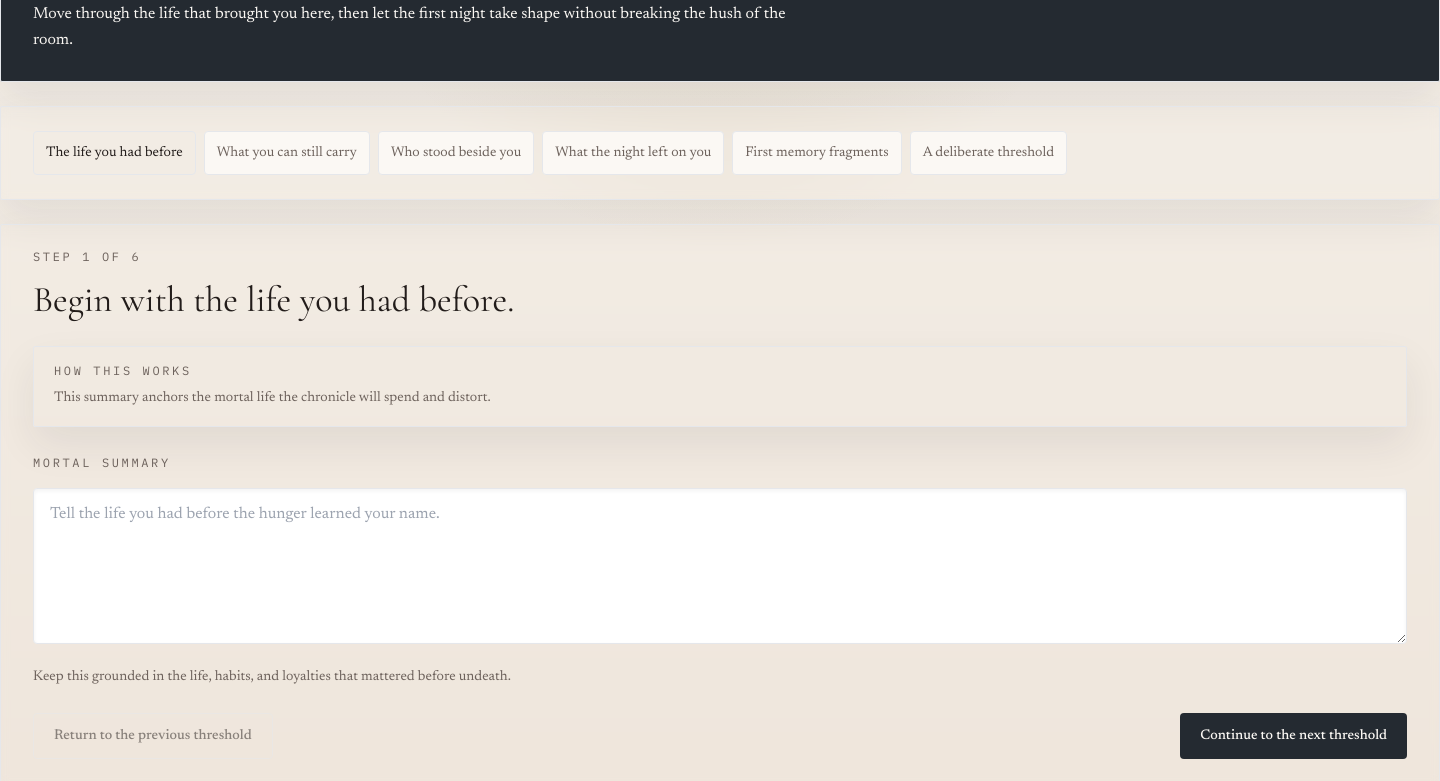
Test case: guided setup flow › keeps the player on the checkpoint when setup submission fails
This screenshot has width=1440, height=781.
(page scrolled)
Click the button "Continue to the next threshold". click: {"x": 1294, "y": 736}
box: [1180,713,1407,759]
(page scrolled)
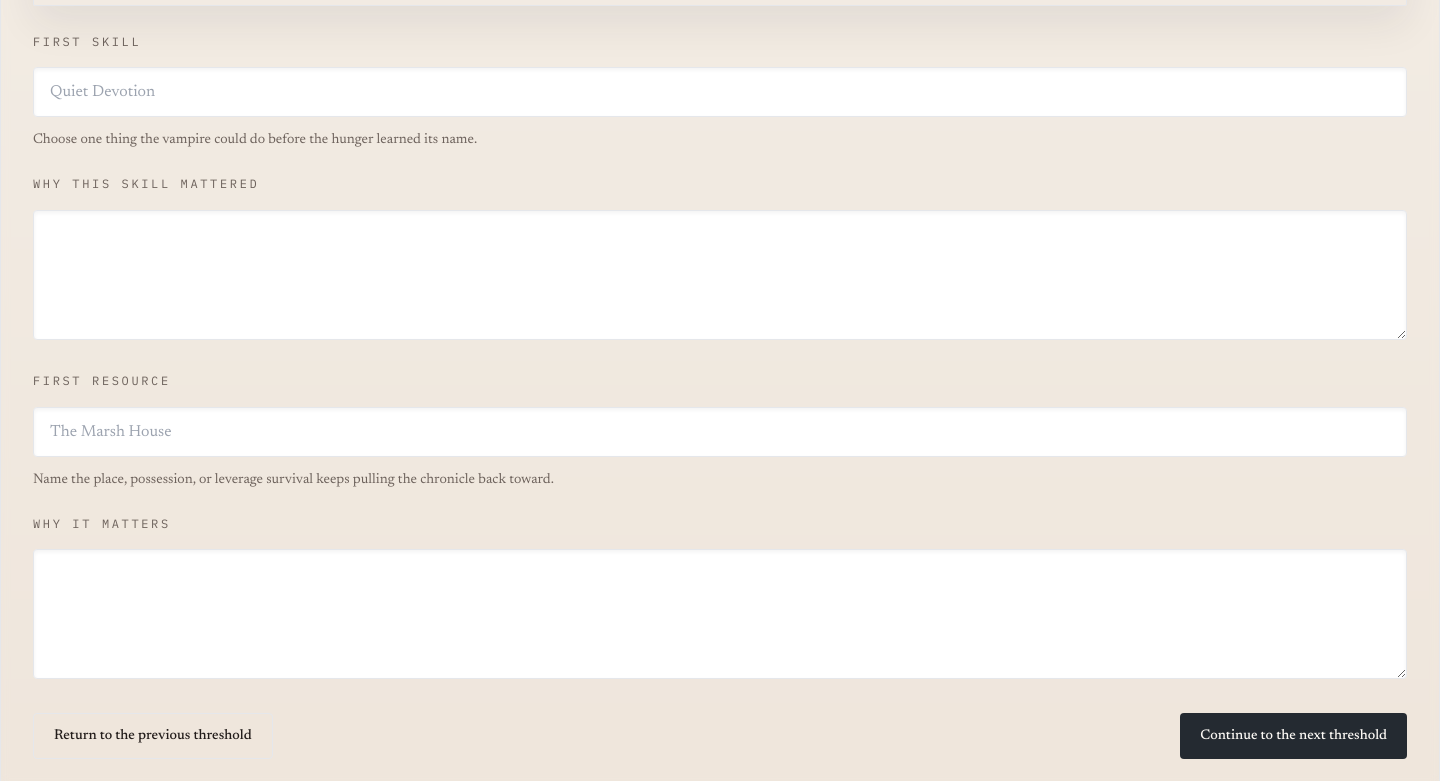
Click the button "Continue to the next threshold". click: {"x": 1294, "y": 736}
box: [1180,713,1407,759]
(page scrolled)
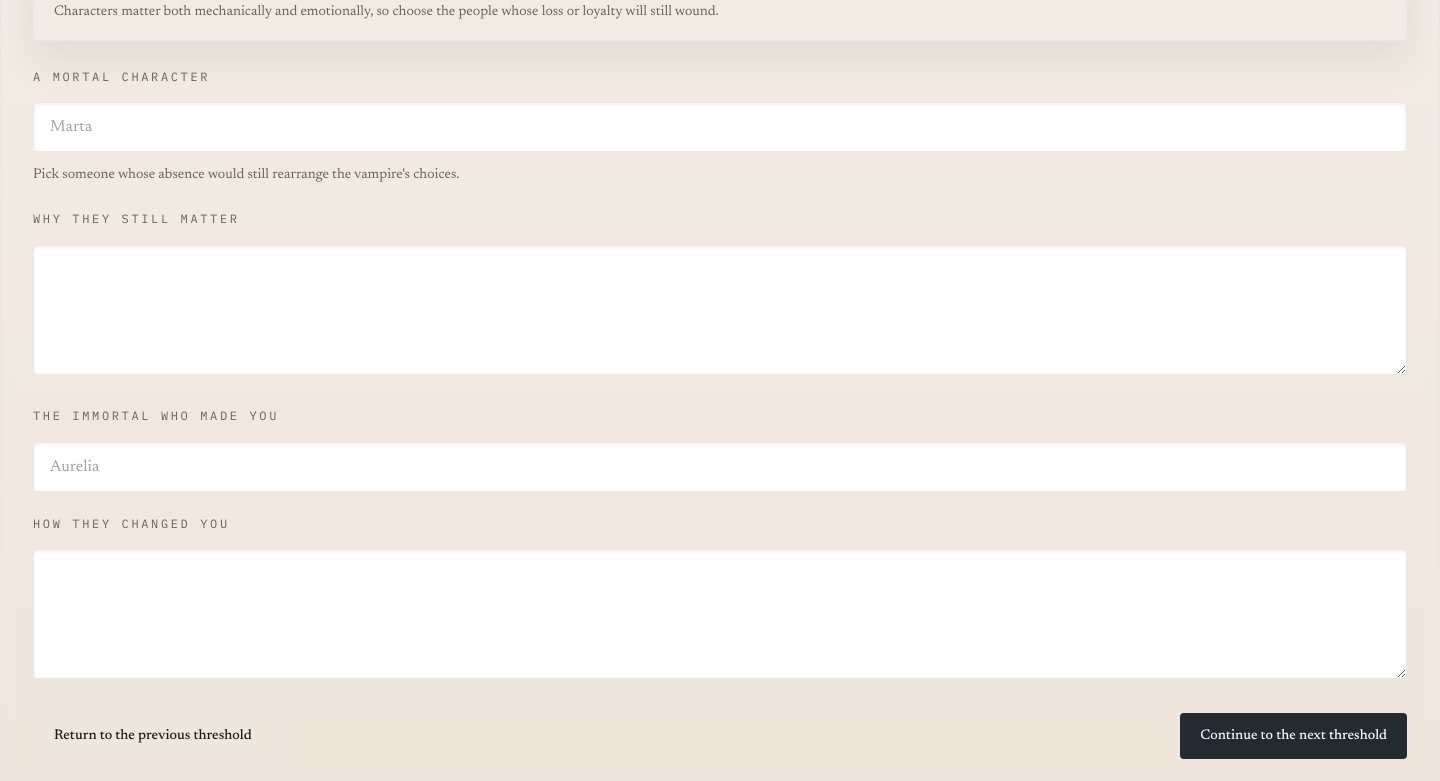
Click the button "Continue to the next threshold". click: {"x": 1294, "y": 736}
box: [1180,713,1407,759]
(page scrolled)
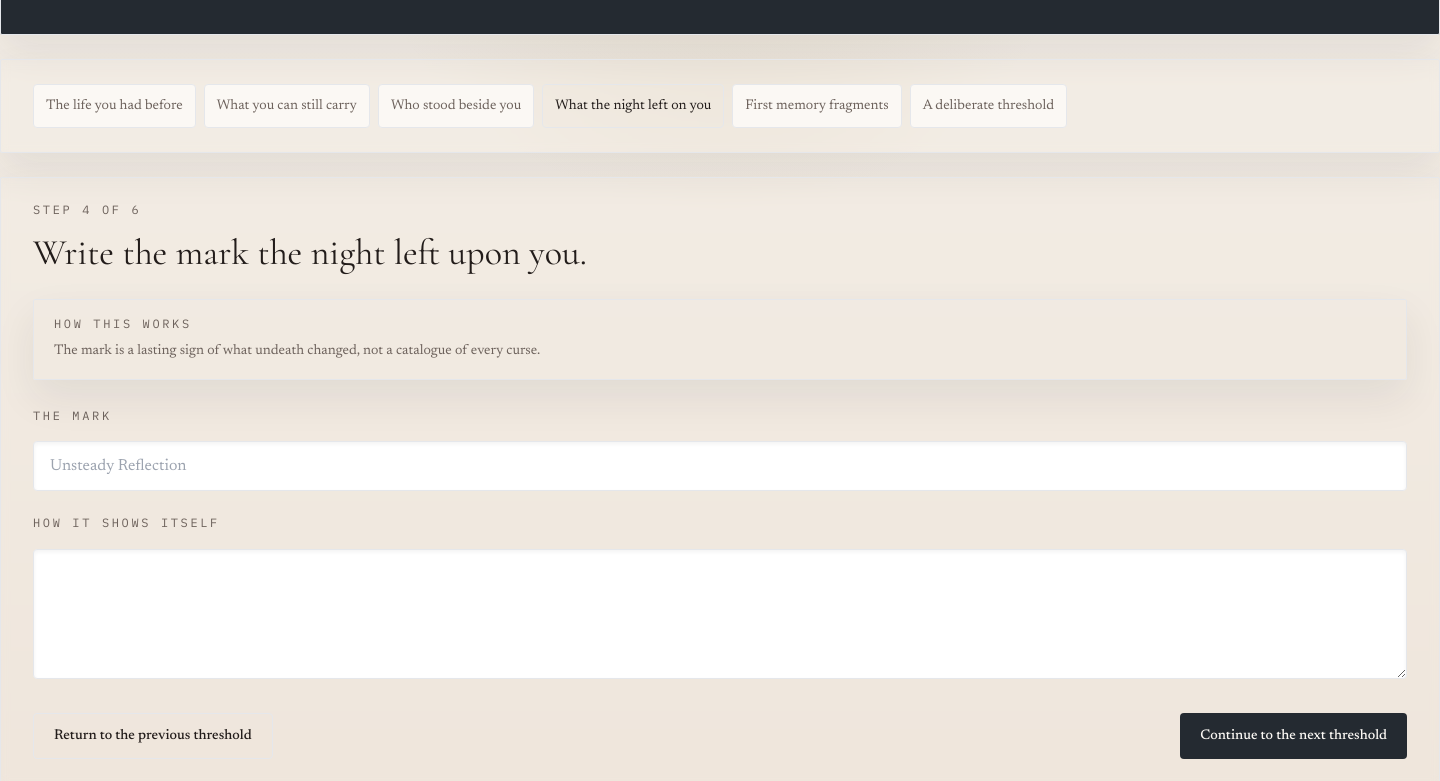
Click the button "Continue to the next threshold". click: {"x": 1294, "y": 736}
box: [1180,712,1407,758]
(page scrolled)
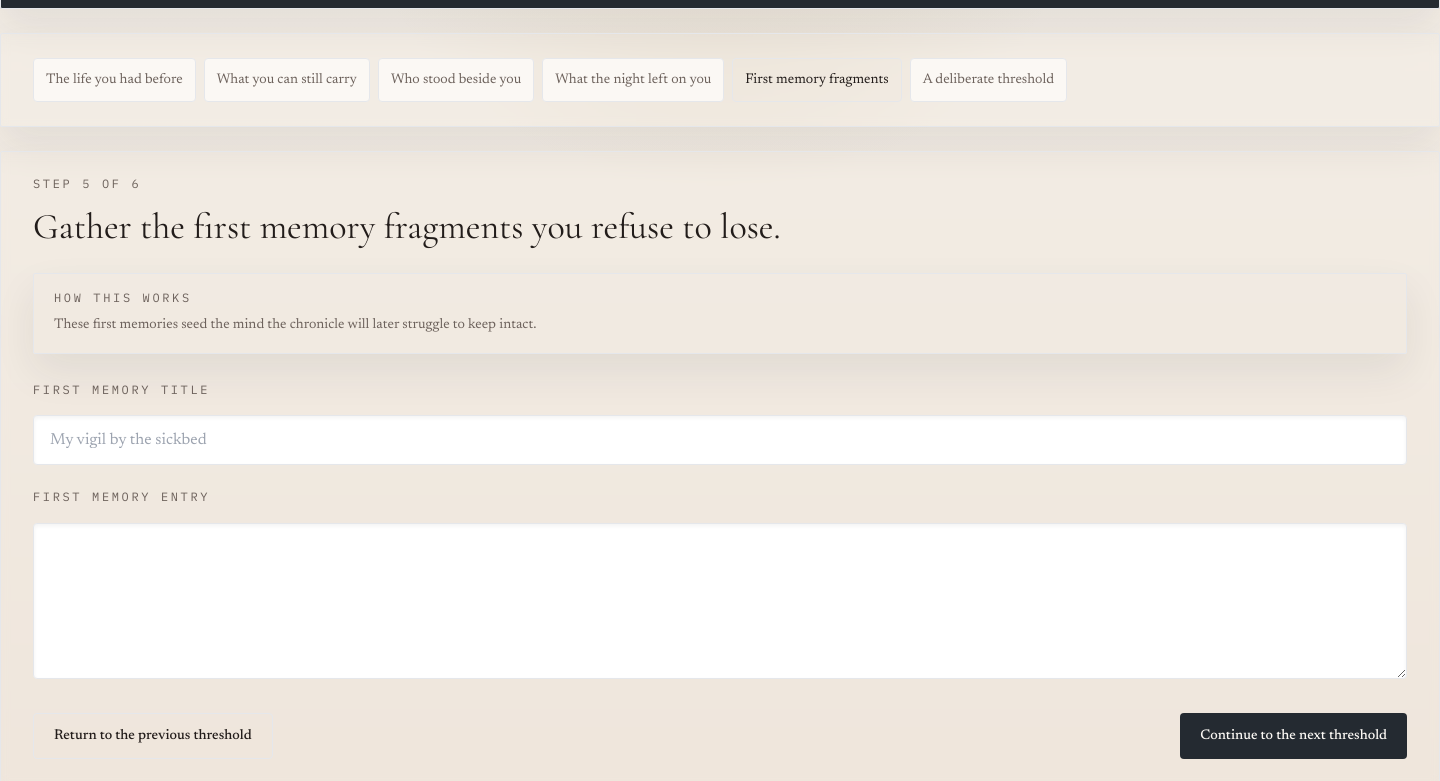
Click the button "Continue to the next threshold". click: {"x": 1294, "y": 736}
box: [1180,712,1407,758]
(page scrolled)
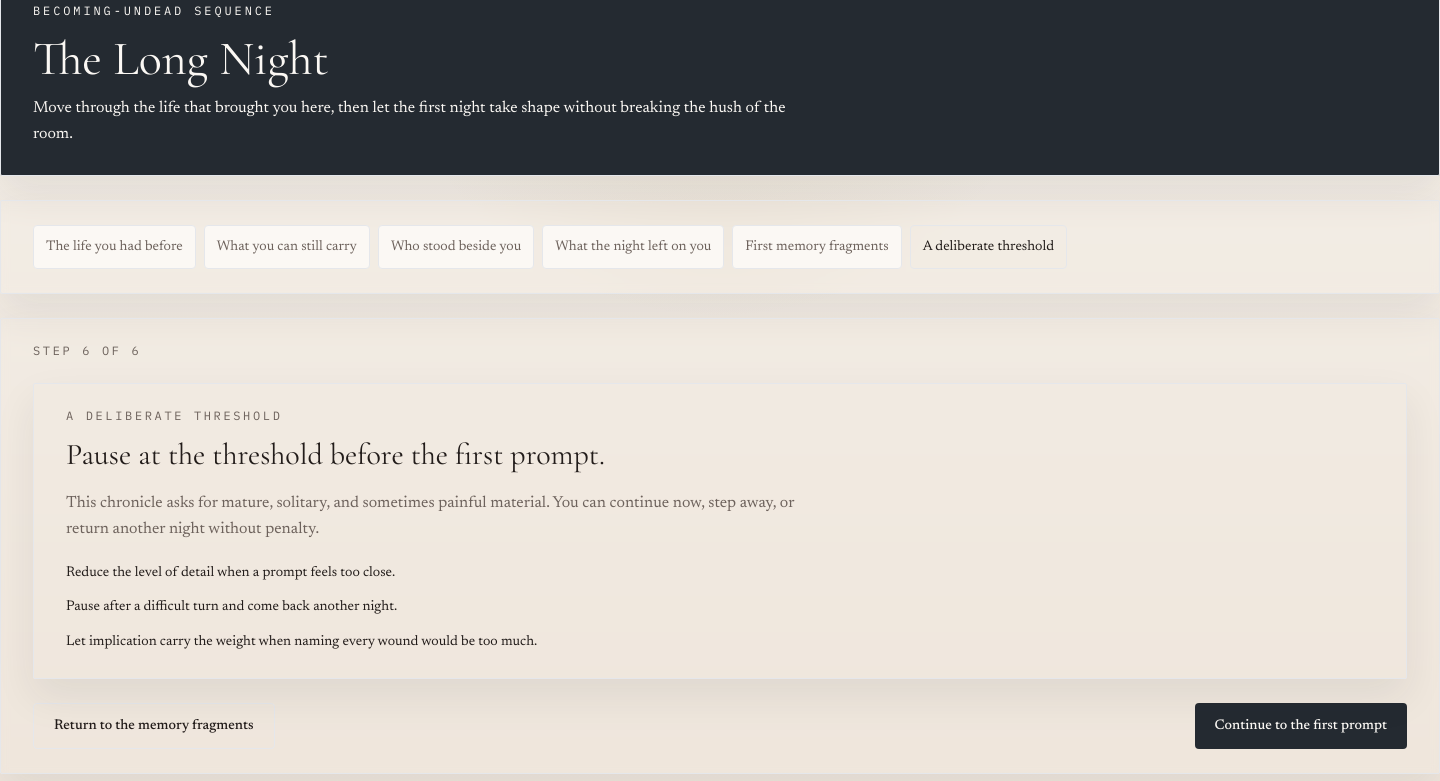
Click the button "Continue to the first prompt". click: {"x": 1301, "y": 726}
box: [1194,703,1407,749]
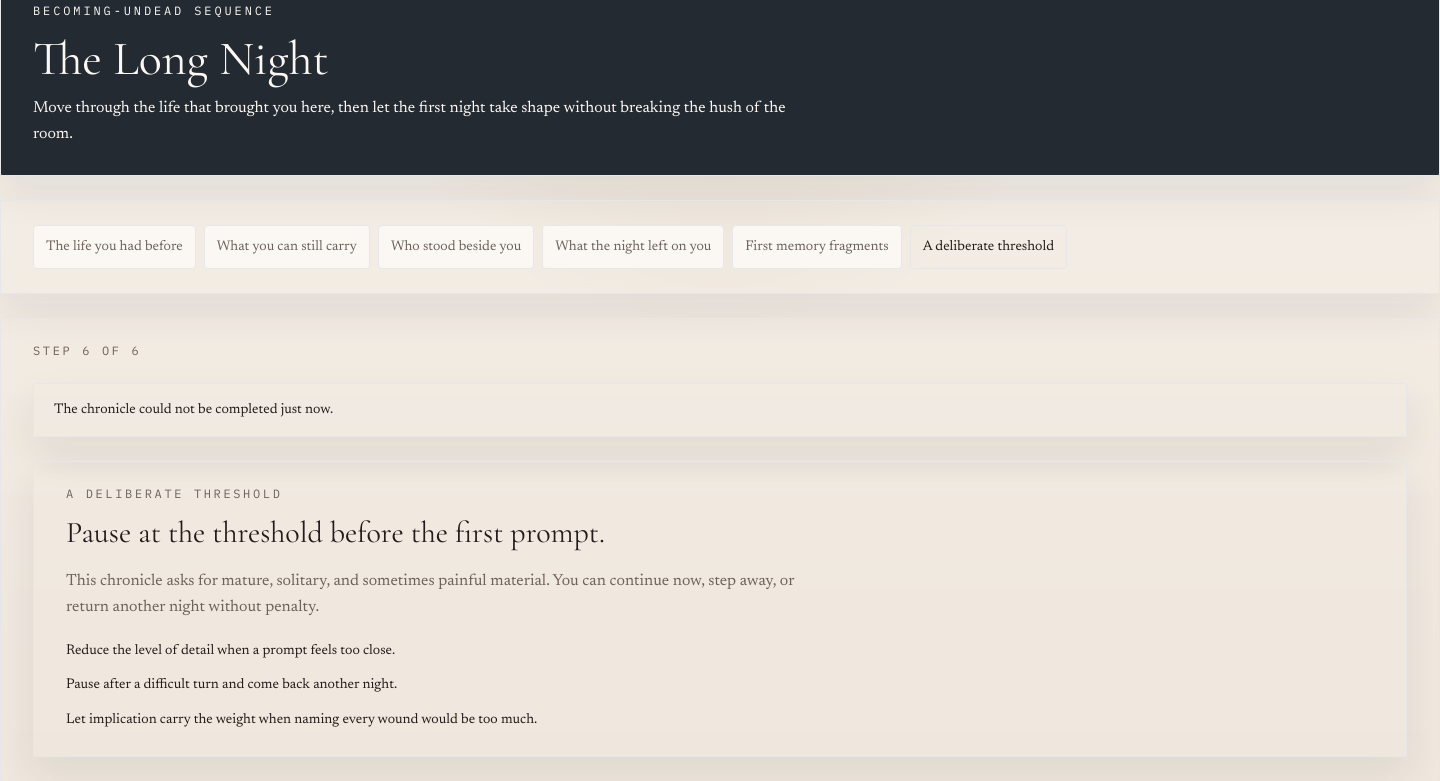
Now the heading "Pause at the threshold before the first prompt." is shown, box [66,514,605,551]
Now the text "The chronicle could not be completed just now." is shown, box [54,403,333,417]
